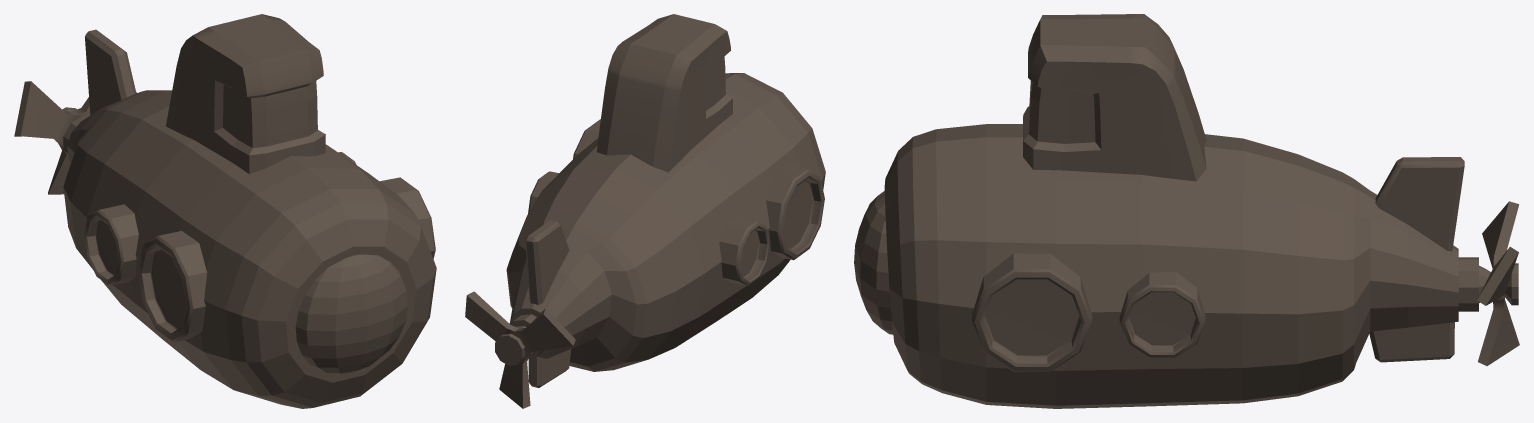
File: Hull Upgrade 1.fbx
3 renders of one model, left to right at view 1: azimuth 30°, elevation 25°; view 2: azimuth 150°, elevation 25°; view 3: azimuth 270°, elevation 25°, orthographic. The views are drawn at different scales.
Visible parts, largest first — view 1: polySurface69; view 2: polySurface69; view 3: polySurface69.
Part boxes in pixels (x1,y1,x2,y2): polySurface69: (14, 14, 436, 408); polySurface69: (465, 14, 825, 408); polySurface69: (854, 14, 1519, 408).
Bounding box in the file's own units: 1.3 × 1.63 × 2.71.
